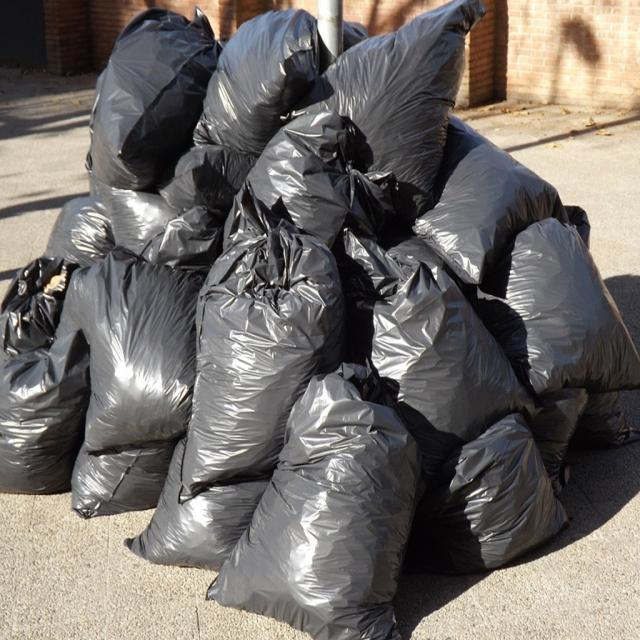garbage: (325, 0, 486, 215), (75, 250, 205, 454), (511, 216, 639, 394)
sampah-detection: (198, 356, 417, 640), (184, 200, 348, 503), (344, 224, 516, 426), (81, 0, 218, 196), (425, 413, 569, 574), (2, 252, 90, 508), (205, 2, 328, 184)
